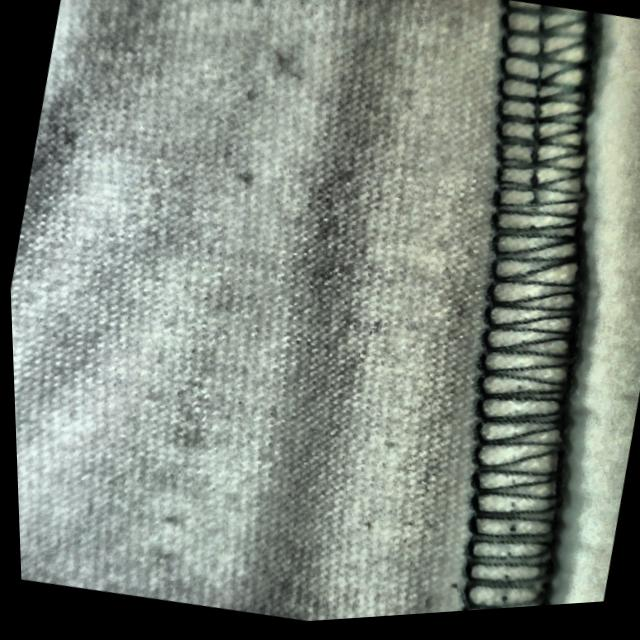Stitch: (423, 0, 640, 387)
